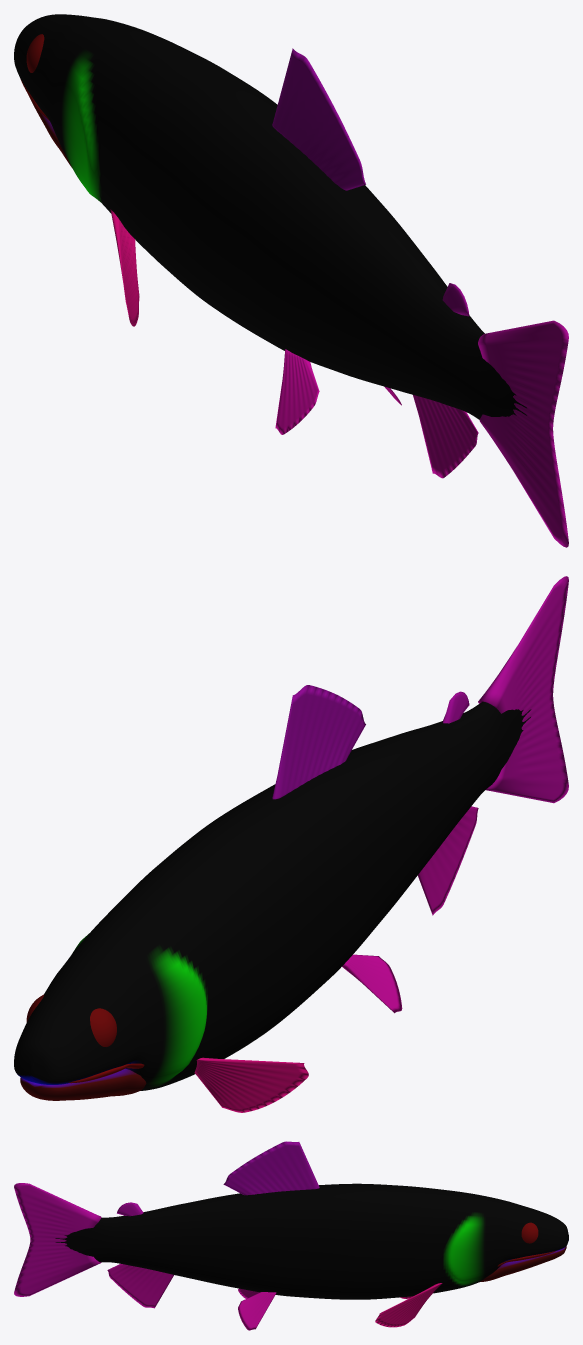
Rendered from cutthroat_trout.glb.
3 renders of one model, top to bottom at view 1: azimuth 30°, elevation 25°; view 2: azimuth 150°, elevation 25°; view 3: azimuth 270°, elevation 25°, orthographic. The views are drawn at different scales.
Visible parts, largest first — view 1: cutthroat_trout; view 2: cutthroat_trout; view 3: cutthroat_trout.
Boxes of the visible parts, bbox=[...] form: cutthroat_trout: bbox=[14, 14, 568, 547]; cutthroat_trout: bbox=[14, 576, 568, 1112]; cutthroat_trout: bbox=[14, 1141, 568, 1330].
Bounding box in the file's own units: 0.077 × 0.1379 × 0.399.
